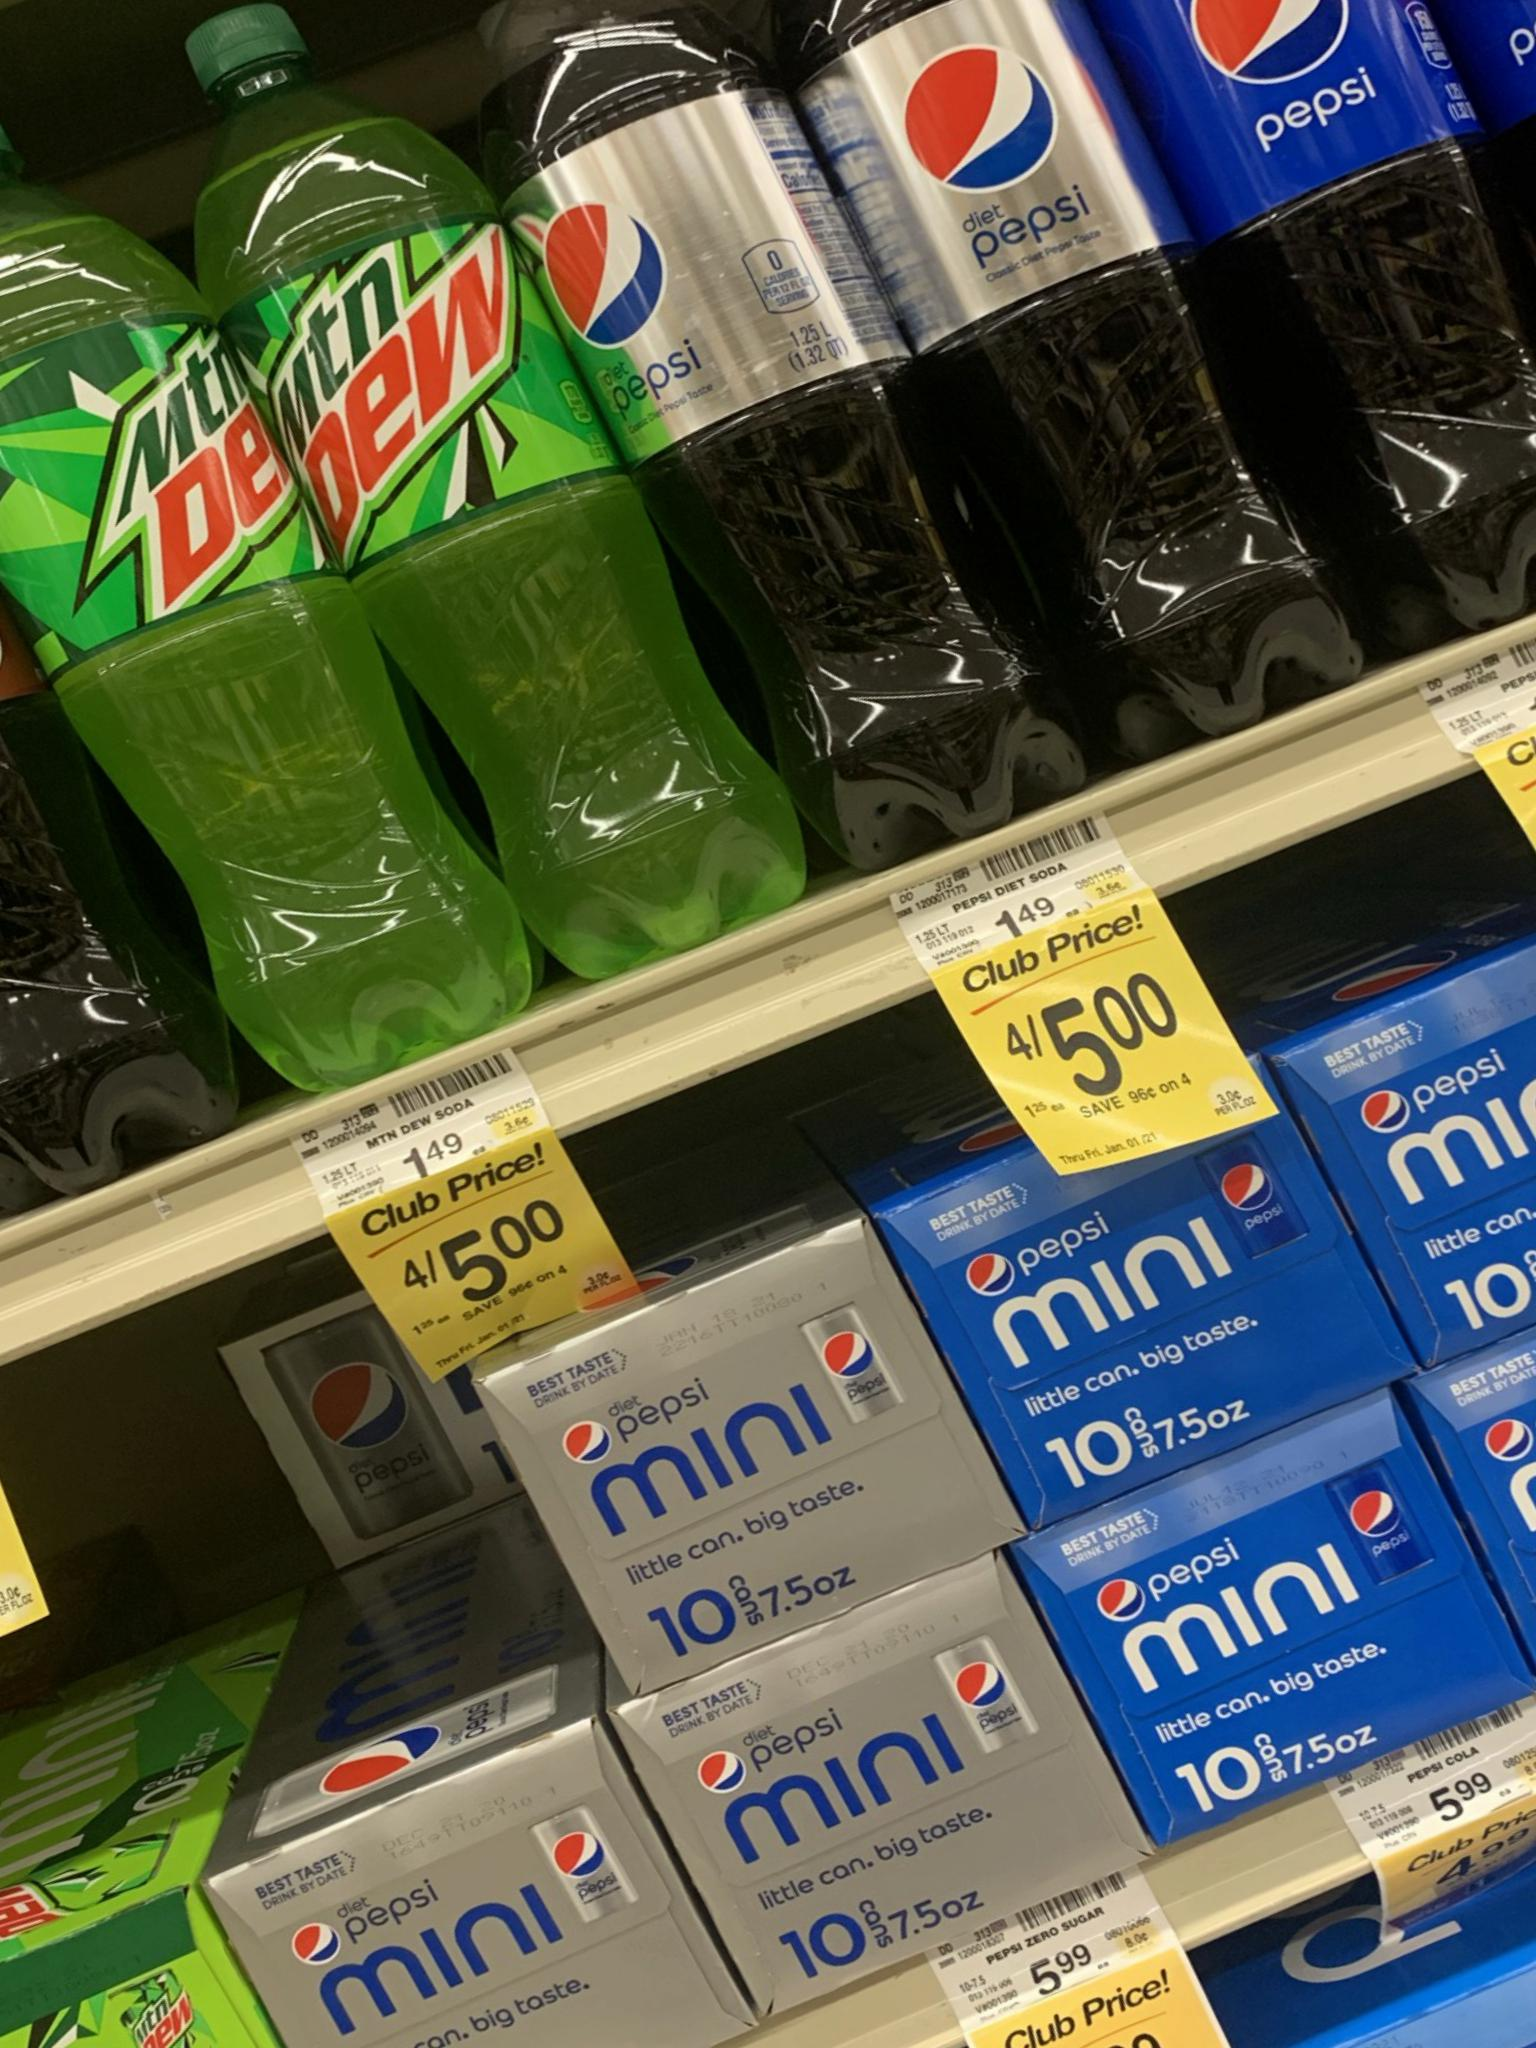box: (573, 1332, 933, 1592), (670, 1711, 1104, 1895), (963, 1198, 1341, 1405), (260, 1869, 653, 2048), (1100, 1556, 1484, 1725)
